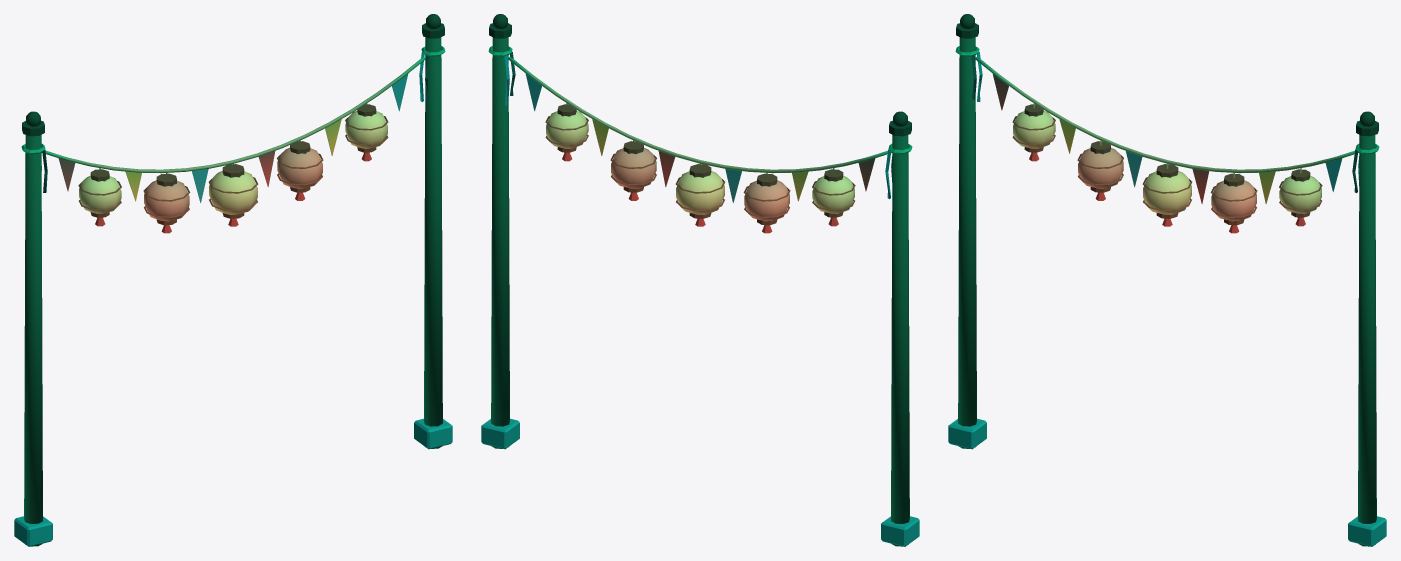
Rendered from lantern_bunting.glb.
3 views of the same model, side by side, from view 1: azimuth 30°, elevation 25°; view 2: azimuth 150°, elevation 25°; view 3: azimuth 330°, elevation 25° (orthographic).
Parts seen in each view (by area): view 1: lantern_bunting; view 2: lantern_bunting; view 3: lantern_bunting.
Boxes of the visible parts, box(x1,y1,x2,y2) form: lantern_bunting: box(14, 14, 452, 546); lantern_bunting: box(481, 14, 919, 546); lantern_bunting: box(948, 14, 1386, 546).
Size of the model in its own units: 3 by 2.88 by 0.2901.
